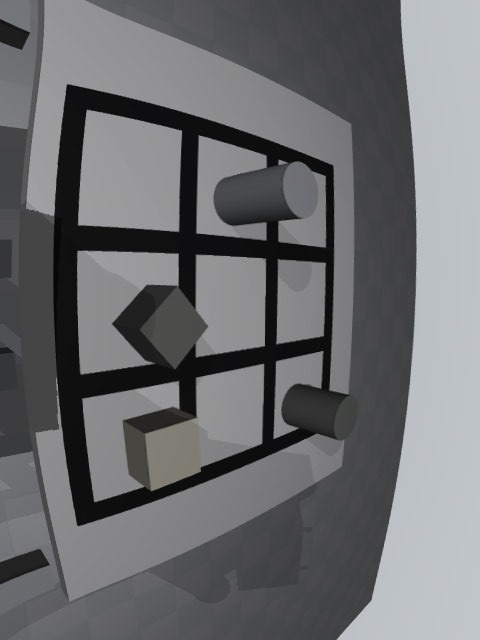can: (214, 161, 319, 226)
cube: (112, 285, 208, 370)
cylinder: (281, 384, 359, 440)
foam: (123, 406, 201, 492)
